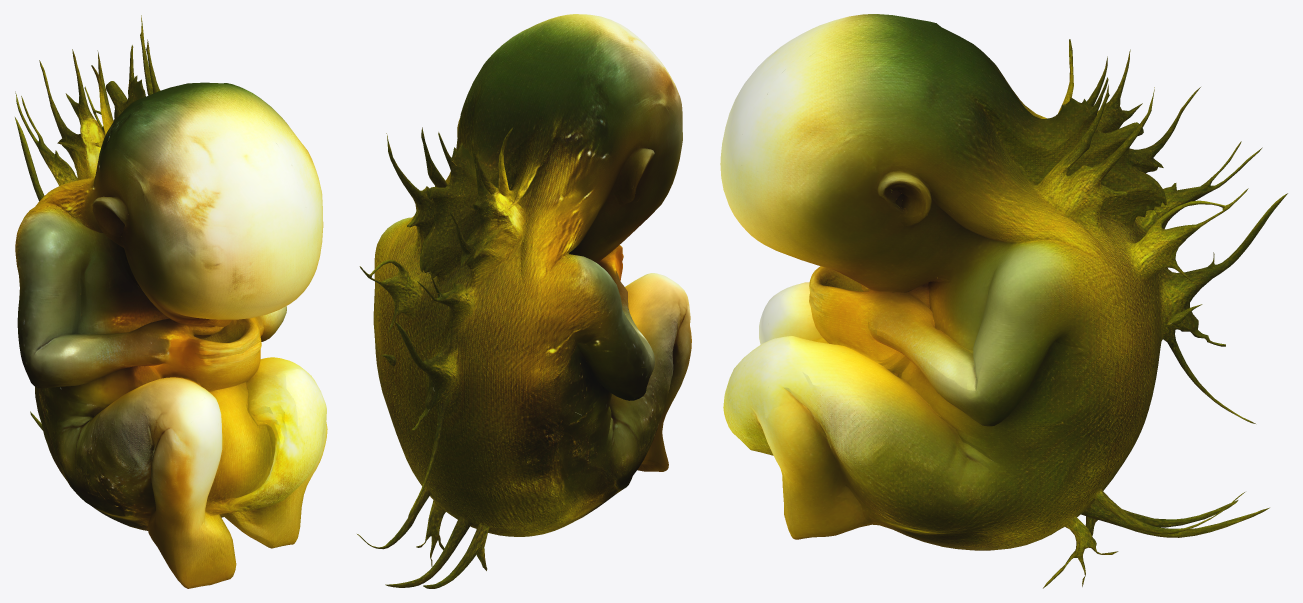
Rendered from embrion-organismo.glb.
3 renders of one model, left to right at view 1: azimuth 30°, elevation 25°; view 2: azimuth 150°, elevation 25°; view 3: azimuth 270°, elevation 25°, orthographic. The views are drawn at different scales.
Visible parts, largest first — view 1: Mesh; view 2: Mesh; view 3: Mesh.
Boxes of the visible parts, x1,y1,x2,y2 form: Mesh: (15, 15, 327, 588); Mesh: (357, 14, 691, 588); Mesh: (720, 14, 1287, 588).
Bounding box in the file's own units: 0.9016 × 1.64 × 1.56.
1 material, 1 textured.
